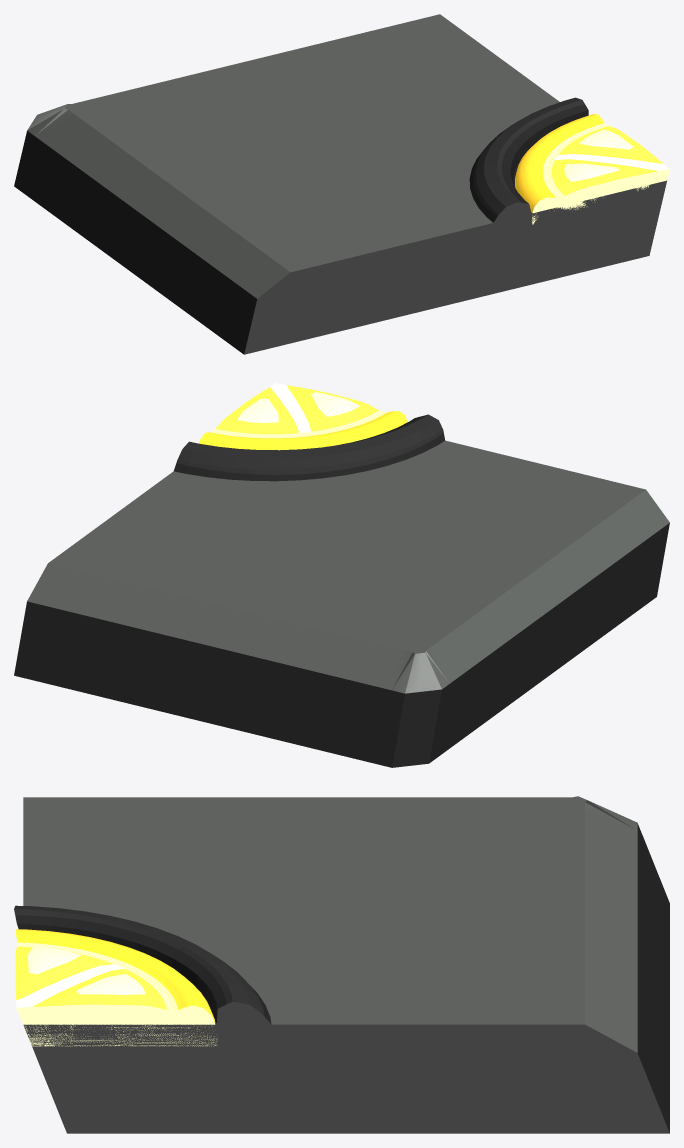
The model's file is pineapple_153.glb.
The picture shows the model from 3 angles, top to bottom: view 1: azimuth 30°, elevation 25°; view 2: azimuth 150°, elevation 25°; view 3: azimuth 270°, elevation 25°; orthographic projection. The views are drawn at different scales.
Visible parts, largest first — view 1: pineapple_153; view 2: pineapple_153; view 3: pineapple_153.
Part boxes in pixels (x1=…): pineapple_153: x1=14, y1=14, x2=669, y2=354; pineapple_153: x1=14, y1=383, x2=669, y2=767; pineapple_153: x1=14, y1=796, x2=669, y2=1133.
Size of the model in its own units: 24 by 6.21 by 27.2.
